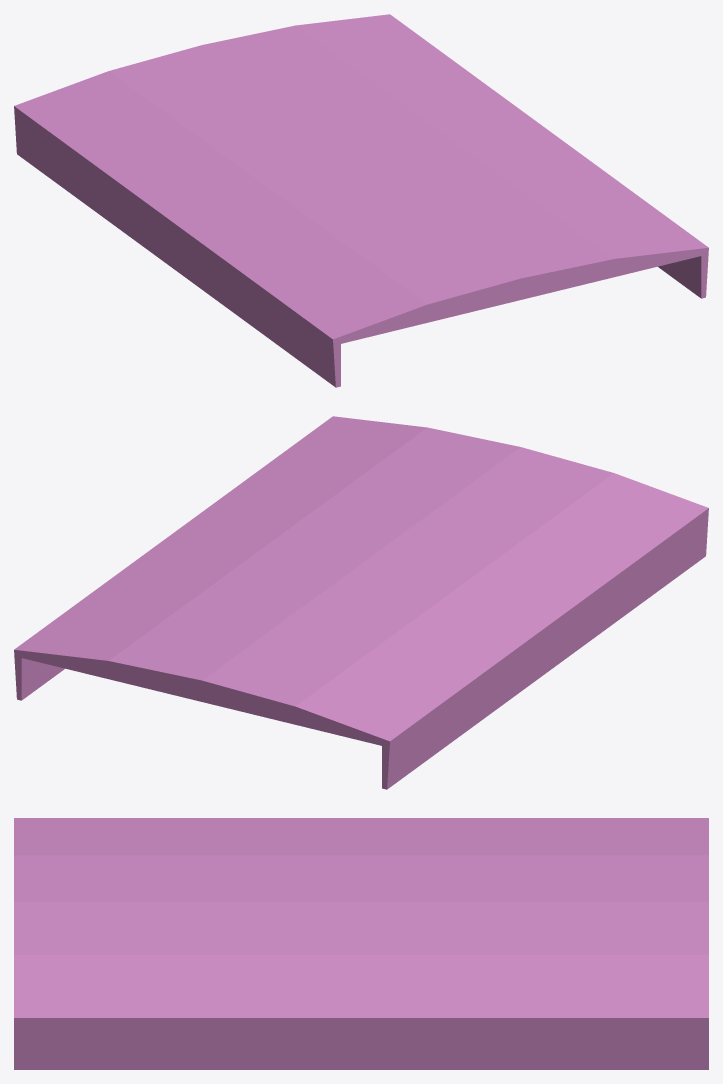
File: Itr_Bed_Single_Blanket_14.FBX
The picture shows the model from 3 angles, top to bottom: view 1: azimuth 30°, elevation 25°; view 2: azimuth 150°, elevation 25°; view 3: azimuth 270°, elevation 25°; orthographic projection. The views are drawn at different scales.
Visible parts, largest first — view 1: Itr_Bed_Single_Blanket_14; view 2: Itr_Bed_Single_Blanket_14; view 3: Itr_Bed_Single_Blanket_14.
Boxes of the visible parts, bbox=[...] form: Itr_Bed_Single_Blanket_14: bbox=[14, 14, 708, 387]; Itr_Bed_Single_Blanket_14: bbox=[14, 416, 708, 789]; Itr_Bed_Single_Blanket_14: bbox=[14, 818, 708, 1069].
Bounding box in the file's own units: 44.15 × 7.2 × 64.86.
